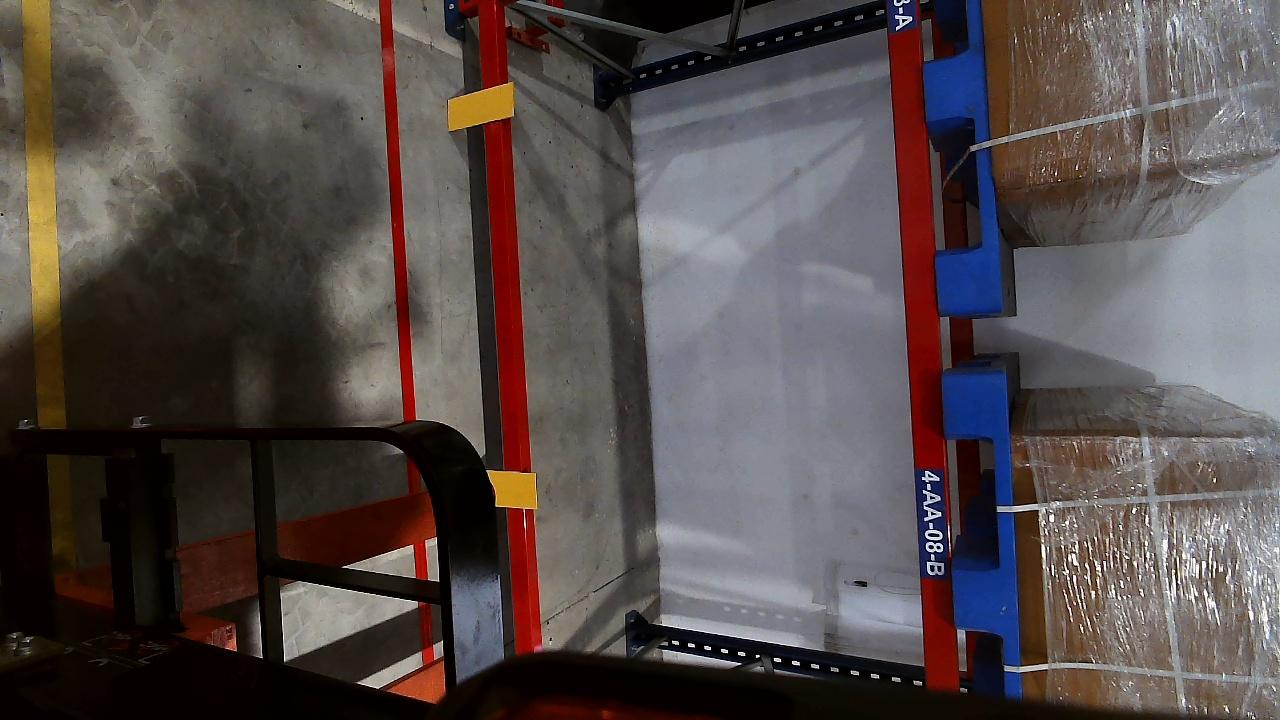h_rack: (881, 0, 952, 689), (472, 5, 526, 654)
orange_strip: (445, 83, 515, 129), (486, 470, 536, 507)
red_line: (378, 0, 417, 431)
small_pallet: (916, 1, 1008, 309), (942, 374, 1025, 690)
yellow_line: (19, 0, 66, 426)
